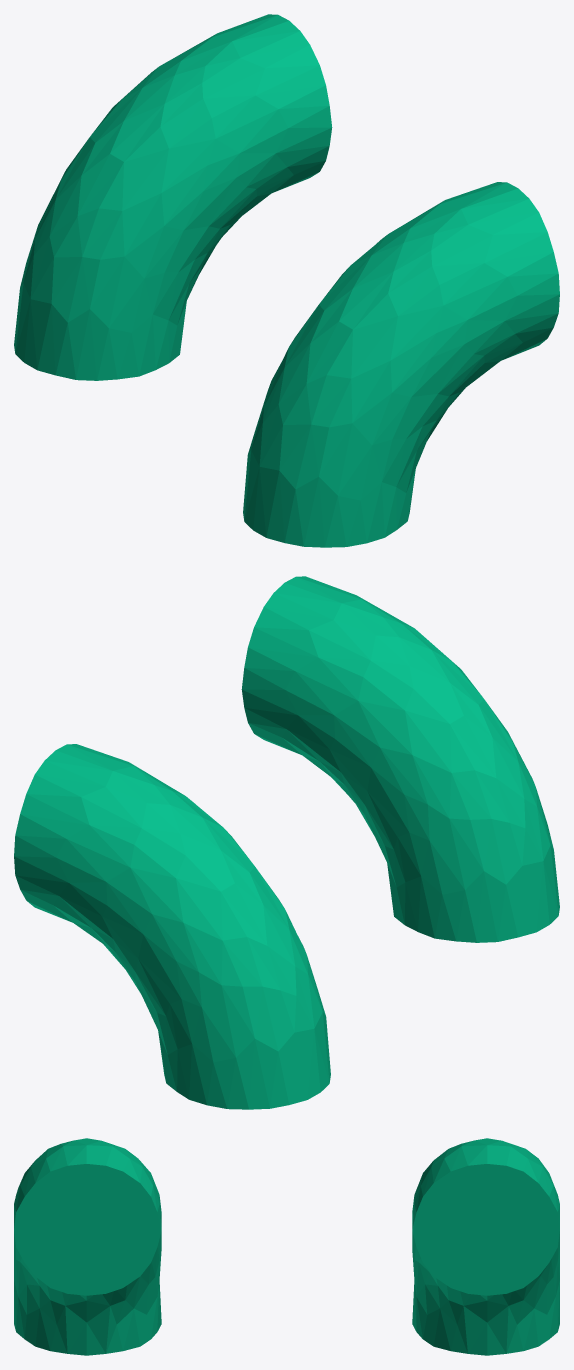
3 renders of one model, top to bottom at view 1: azimuth 30°, elevation 25°; view 2: azimuth 150°, elevation 25°; view 3: azimuth 270°, elevation 25°, orthographic. The views are drawn at different scales.
Size of the model in its own units: 0.2084 by 0.2084 by 0.425.
